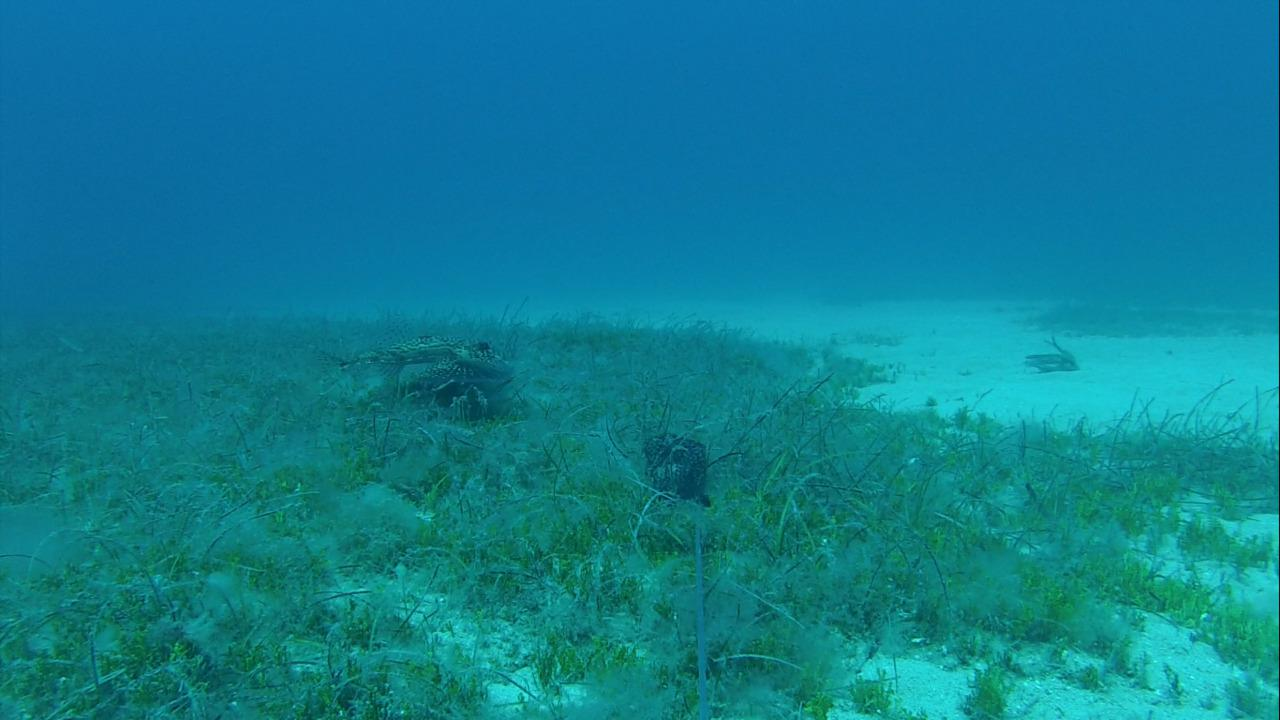dactylopterus: (321, 336, 516, 414)
